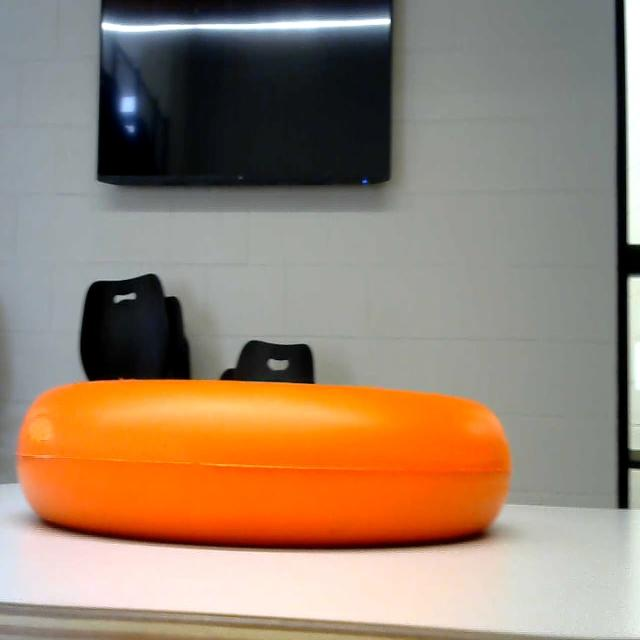note: (0, 375, 544, 549)
